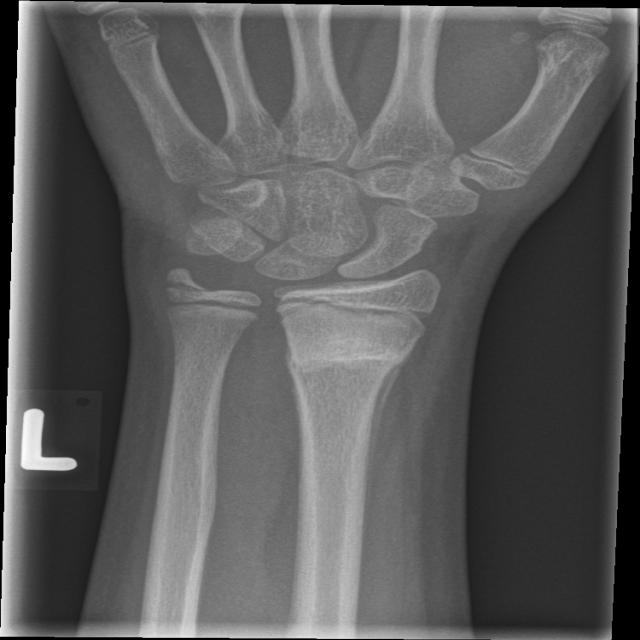radius fracture: (271, 309, 451, 423)
